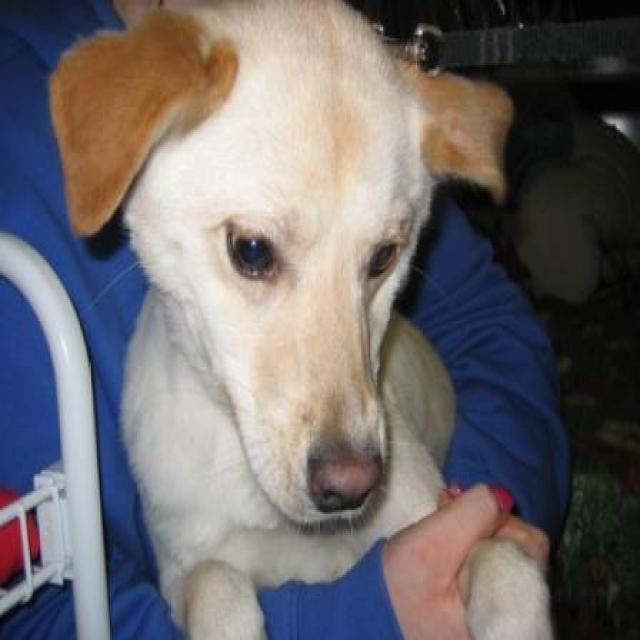dog: (47, 0, 556, 638)
